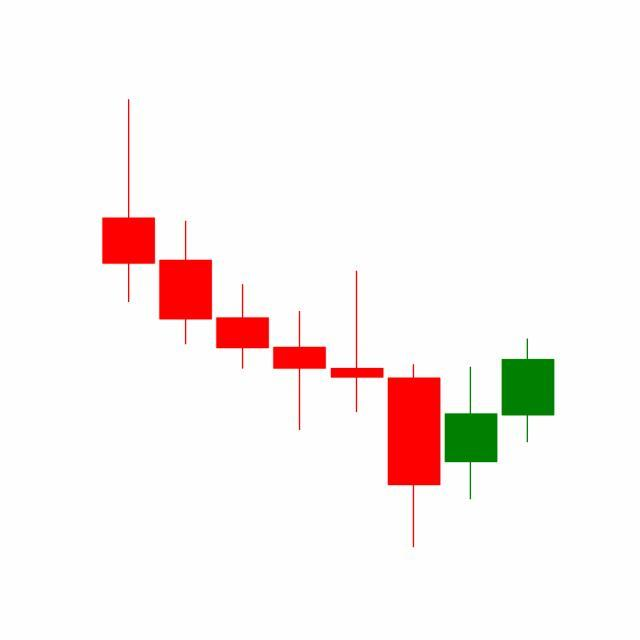Hikkake Pattern: (270, 267, 555, 549)
